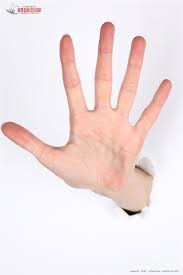palm: (1, 16, 175, 197)
